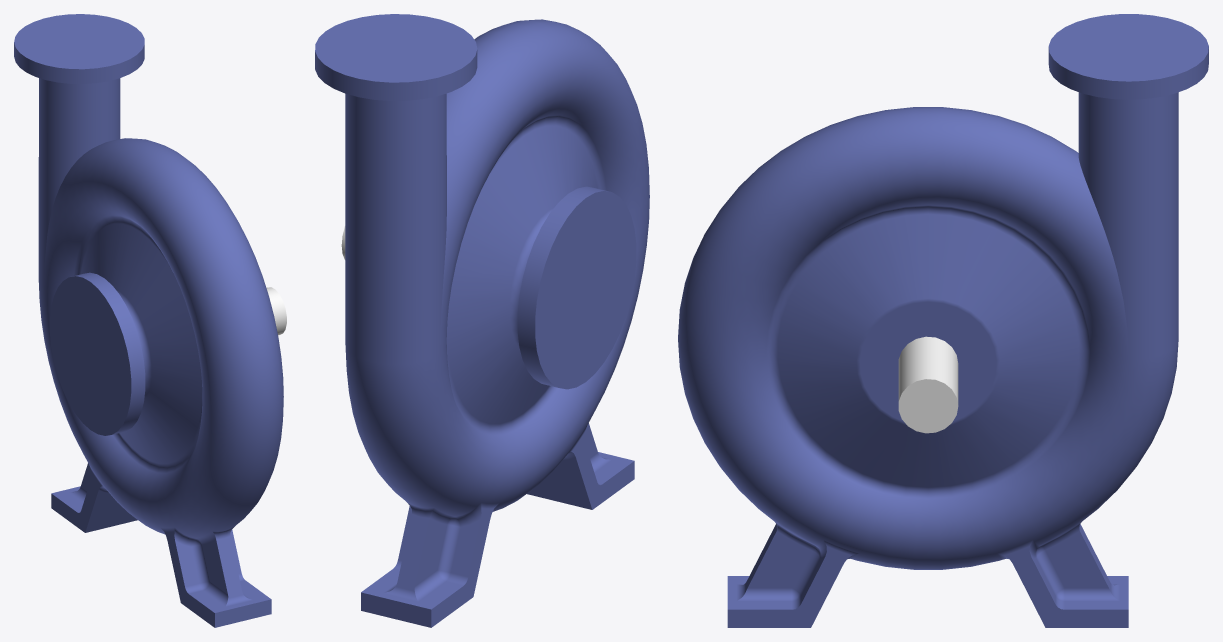
The model's file is Pumpe_Simple.fbx.
3 views of the same model, side by side, from view 1: azimuth 30°, elevation 25°; view 2: azimuth 150°, elevation 25°; view 3: azimuth 270°, elevation 25° (orthographic). The views are drawn at different scales.
Parts seen in each view (by area): view 1: Pumpe_Simple; view 2: Pumpe_Simple; view 3: Pumpe_Simple.
Part boxes in pixels (x1,y1,x2,y2): Pumpe_Simple: (14, 14, 286, 627); Pumpe_Simple: (315, 14, 649, 627); Pumpe_Simple: (678, 14, 1208, 627).
Bounding box in the file's own units: 26 × 62 × 52.95.
